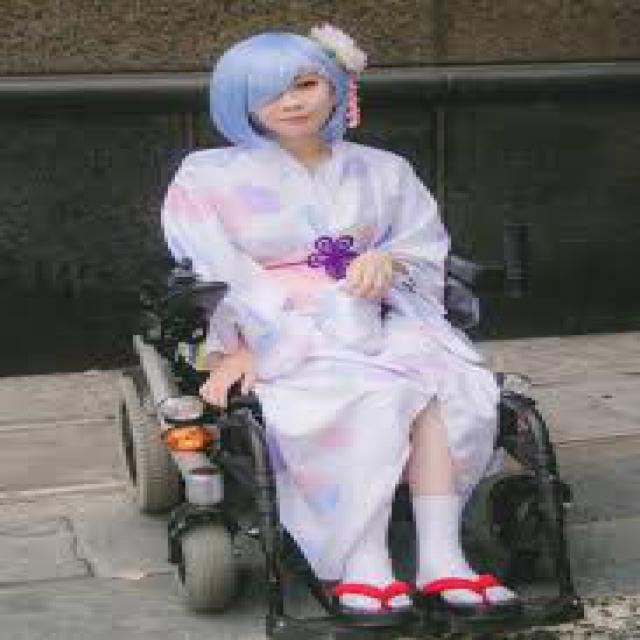wheelchairs: (94, 240, 591, 638)
